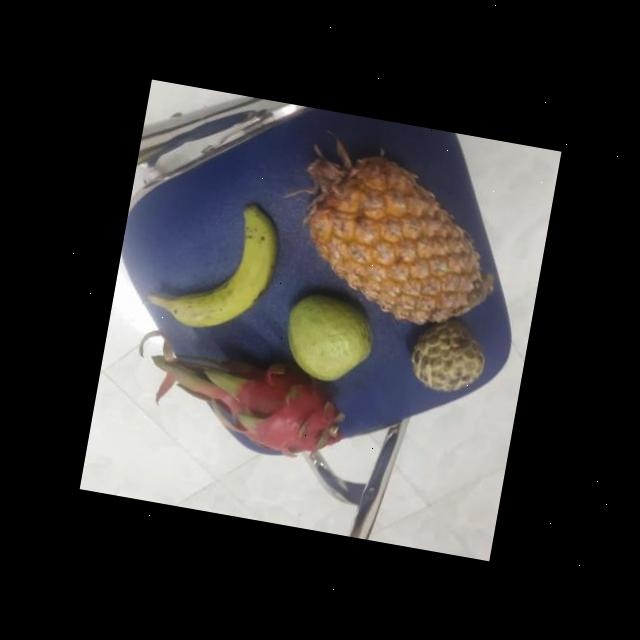Sakya fruit: (402, 311, 492, 397)
banana: (156, 196, 280, 336)
guava: (274, 288, 381, 390)
pineapple: (284, 150, 500, 328)
pitaya: (192, 353, 351, 469)
